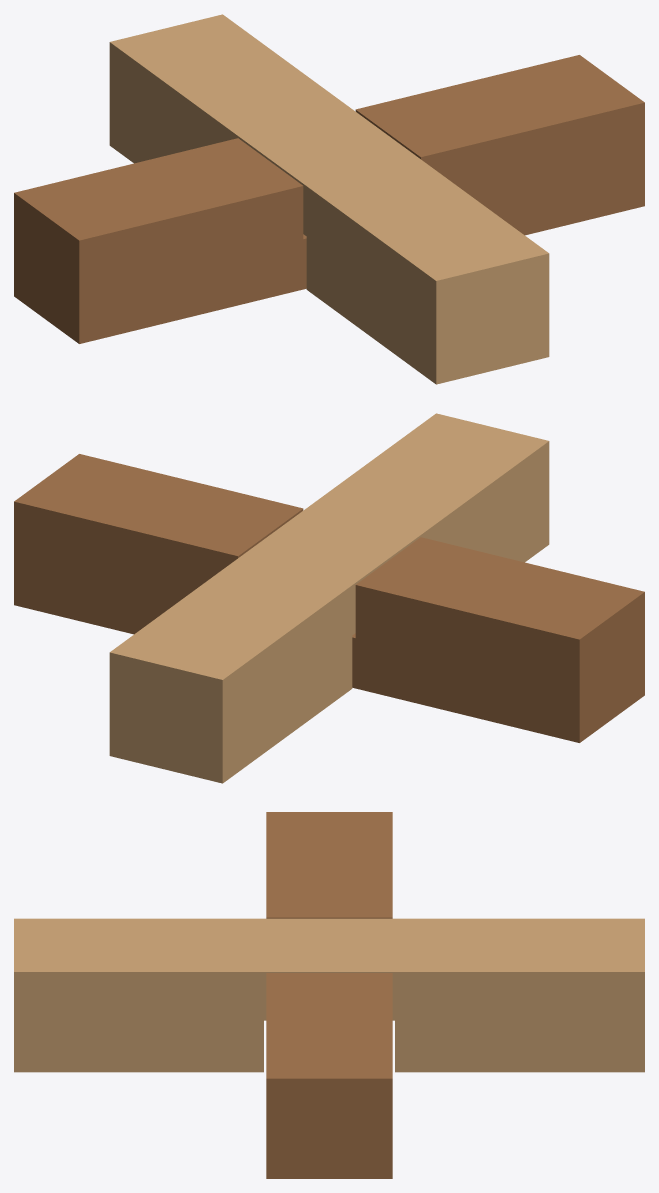
The model's file is half-lap.glb.
The picture shows the model from 3 angles, top to bottom: view 1: azimuth 30°, elevation 25°; view 2: azimuth 150°, elevation 25°; view 3: azimuth 270°, elevation 25°; orthographic projection. The views are drawn at different scales.
Visible parts, largest first — view 1: lap lower, lap upper; view 2: lap lower, lap upper; view 3: lap upper, lap lower.
Part boxes in pixels (x1,y1,x2,y2): lap lower: [14, 55, 644, 343]; lap upper: [109, 14, 549, 384]; lap lower: [14, 454, 644, 742]; lap upper: [109, 413, 549, 783]; lap upper: [14, 918, 644, 1072]; lap lower: [266, 812, 392, 1178].
Bounding box in the file's own units: 4 × 0.7 × 4.
